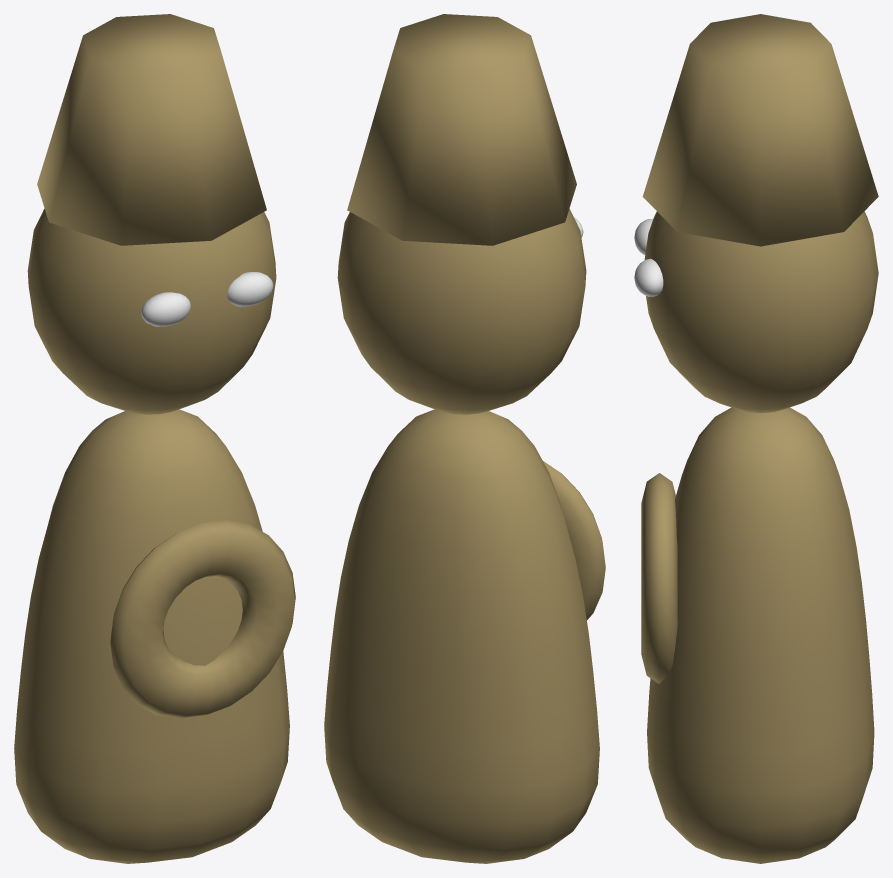
File: artefact.glb
3 renders of one model, left to right at view 1: azimuth 30°, elevation 25°; view 2: azimuth 150°, elevation 25°; view 3: azimuth 270°, elevation 25°, orthographic.
Parts seen in each view (by area): view 1: Idol, Crown, Head, Hands, Eye-1, Eye1; view 2: Idol, Crown, Head, Hands; view 3: Idol, Crown, Head, Hands, Eye1.
Part boxes in pixels (left/top/right/bottom): Idol: left=14, top=409, right=289, bottom=863; Crown: left=37, top=14, right=266, bottom=245; Head: left=27, top=208, right=276, bottom=414; Hands: left=110, top=520, right=295, bottom=717; Eye-1: left=141, top=292, right=190, bottom=326; Eye1: left=227, top=272, right=273, bottom=306; Idol: left=324, top=409, right=599, bottom=863; Crown: left=347, top=14, right=576, bottom=245; Head: left=337, top=208, right=586, bottom=414; Hands: left=543, top=461, right=605, bottom=619; Idol: left=647, top=407, right=874, bottom=863; Crown: left=642, top=14, right=878, bottom=246; Head: left=644, top=211, right=878, bottom=412; Hands: left=641, top=473, right=677, bottom=683; Eye1: left=634, top=258, right=663, bottom=296.
Bounding box in the file's own units: 0.1678 × 0.5214 × 0.145.
